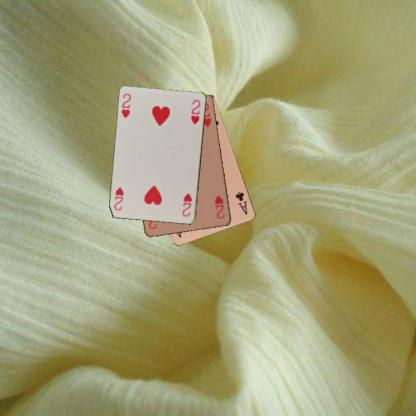2h: (180, 190, 194, 218), (212, 193, 226, 220), (119, 90, 132, 119)
Ac: (233, 189, 249, 216)
